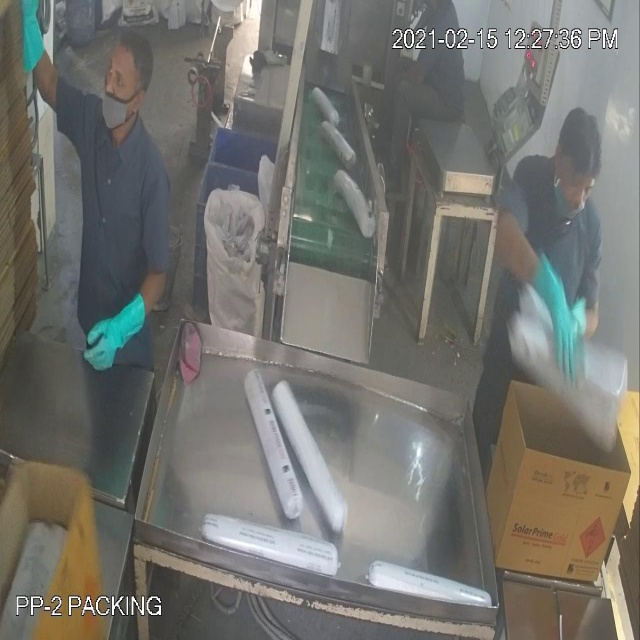Guantes: (526, 239, 586, 407), (80, 274, 155, 381), (12, 1, 66, 109)
